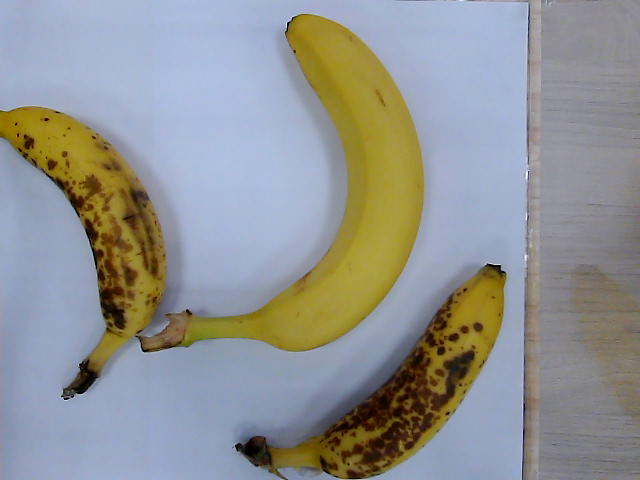fresh_banana: (162, 17, 424, 351)
rotten_banana: (253, 269, 509, 480), (1, 107, 165, 390)
